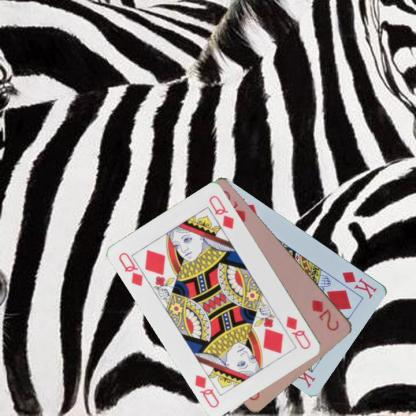2d: (309, 297, 341, 333)
Kd: (340, 268, 378, 300)
Qd: (116, 250, 152, 288), (283, 313, 313, 351)
